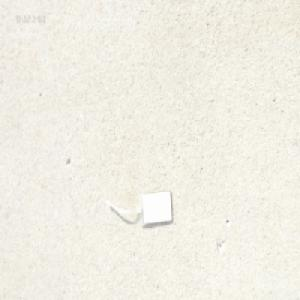LuggageTag: (102, 186, 174, 228)
